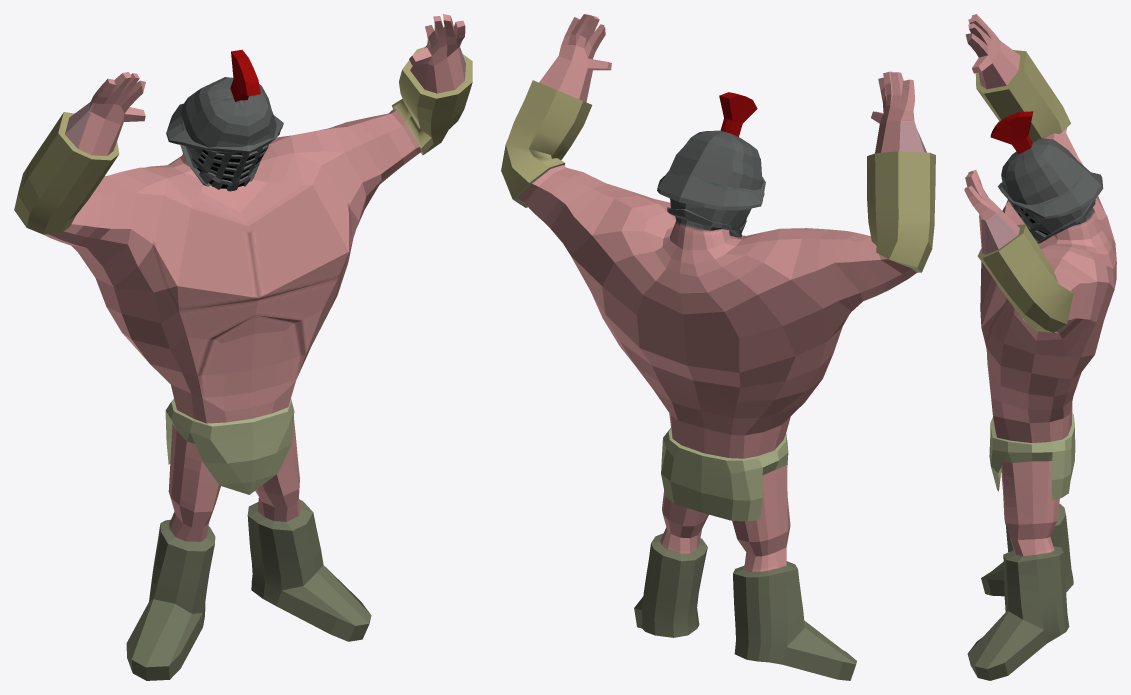
Rendered from GladiatorCelebracion_000570.obj.
3 renders of one model, left to right at view 1: azimuth 30°, elevation 25°; view 2: azimuth 150°, elevation 25°; view 3: azimuth 270°, elevation 25°, orthographic. The views are drawn at different scales.
Visible parts, largest first — view 1: Gadiador_Gladiador_H; view 2: Gadiador_Gladiador_H; view 3: Gadiador_Gladiador_H.
Part boxes in pixels (bbox=[...]): Gadiador_Gladiador_H: bbox=[14, 14, 472, 680]; Gadiador_Gladiador_H: bbox=[501, 14, 935, 680]; Gadiador_Gladiador_H: bbox=[964, 14, 1116, 680].
Size of the model in its own units: 5.9 by 8.04 by 2.
Materials: 1 (1 with a texture image).
